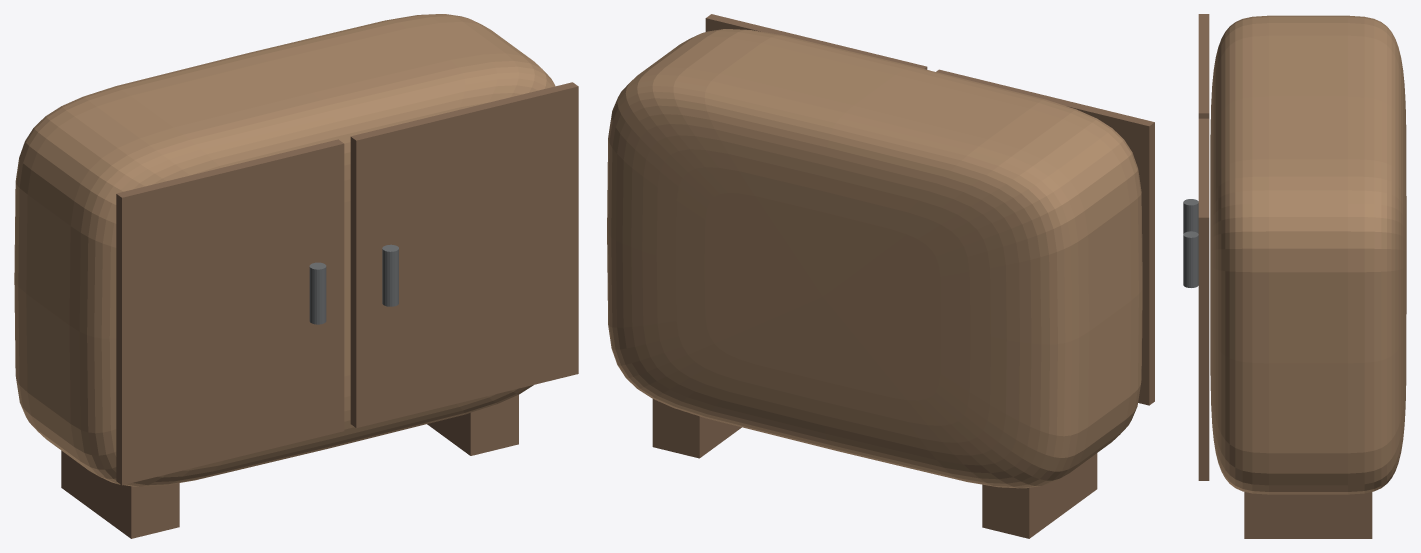
The model's file is cabinet.glb.
3 views of the same model, side by side, from view 1: azimuth 30°, elevation 25°; view 2: azimuth 150°, elevation 25°; view 3: azimuth 270°, elevation 25° (orthographic). The views are drawn at different scales.
Parts seen in each view (by area): view 1: Body, Door_1, Door_-1, Foot_-1, Foot_1, Handle_-1, Handle_1; view 2: Body, Door_-1, Foot_-1, Foot_1, Door_1; view 3: Body, Foot_1, Door_1, Door_-1, Handle_1, Handle_-1.
Part boxes in pixels (box(x1,y1,x2,y2)): Body: box(14, 14, 555, 486); Door_1: box(350, 82, 578, 427); Door_-1: box(116, 139, 344, 485); Foot_-1: box(61, 450, 179, 538); Foot_1: box(427, 395, 518, 455); Handle_-1: box(309, 262, 326, 324); Handle_1: box(382, 244, 398, 306); Body: box(607, 29, 1142, 488); Door_-1: box(936, 69, 1154, 405); Foot_-1: box(982, 453, 1097, 538); Foot_1: box(652, 399, 741, 458); Door_1: box(705, 14, 927, 69); Body: box(1210, 15, 1406, 494); Foot_1: box(1244, 492, 1372, 538); Door_1: box(1198, 118, 1209, 480); Door_-1: box(1198, 14, 1209, 118); Handle_1: box(1183, 231, 1198, 287); Handle_-1: box(1183, 199, 1198, 233).
Bounding box in the file's own units: 1.2 × 0.9198 × 0.523.
